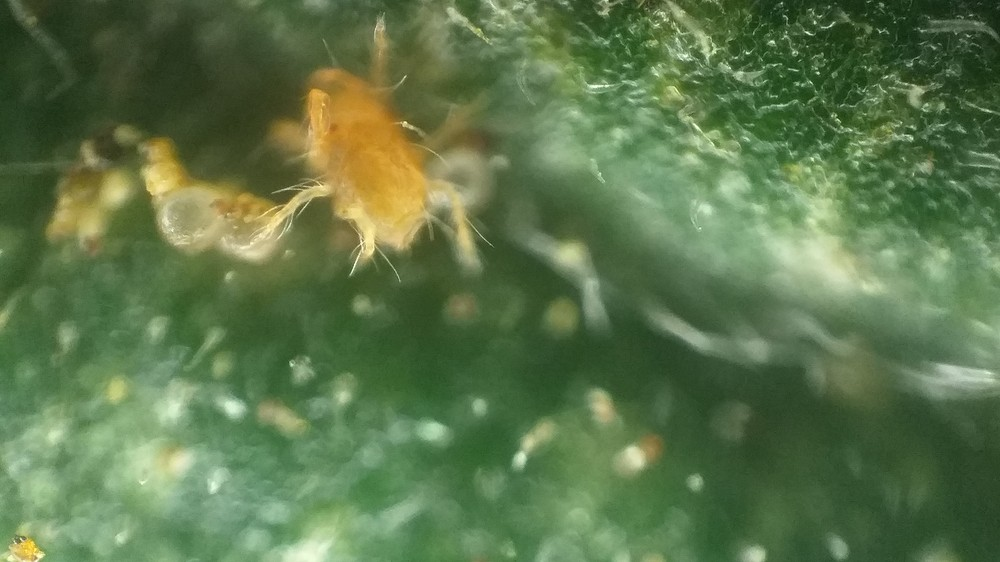Aracnido Rojo: (252, 21, 496, 287)
